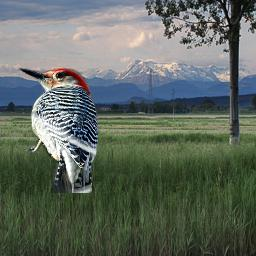Woodpecker: (14, 61, 103, 193)
